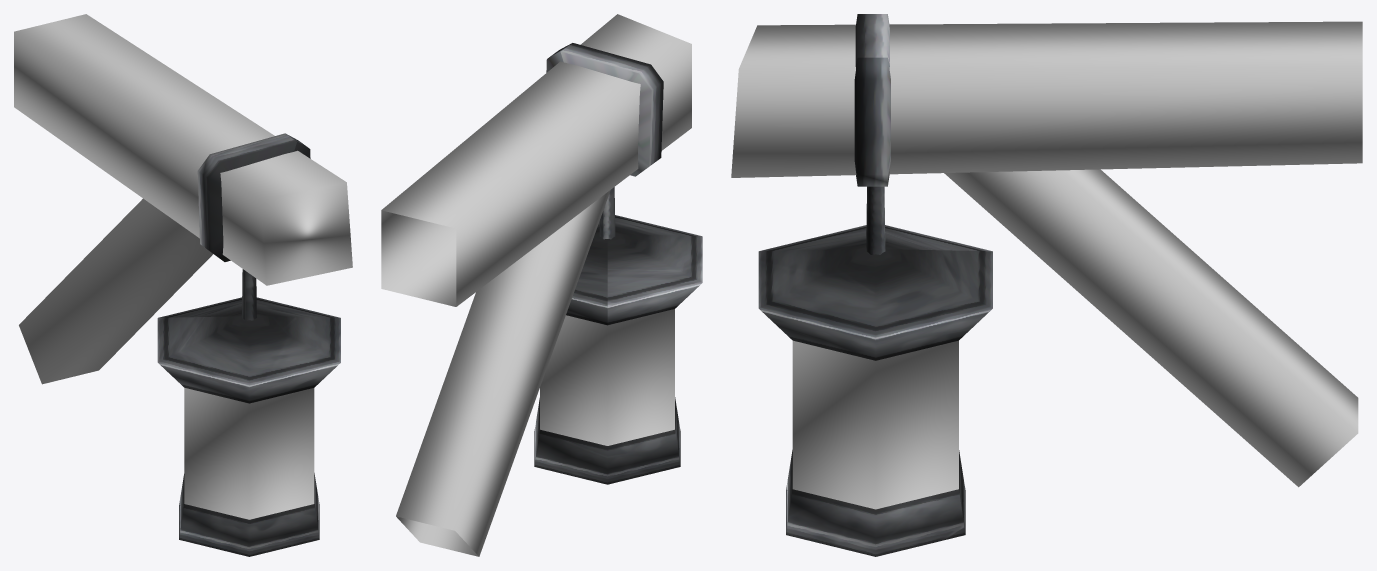
File: StreetLightSmall_1.fbx
The picture shows the model from 3 angles, left to right: view 1: azimuth 30°, elevation 25°; view 2: azimuth 150°, elevation 25°; view 3: azimuth 270°, elevation 25°; orthographic projection. The views are drawn at different scales.
Visible parts, largest first — view 1: Mesh; view 2: Mesh; view 3: Mesh.
Boxes of the visible parts, <box> form: Mesh: <box>14,14,352,556</box>; Mesh: <box>381,14,702,556</box>; Mesh: <box>731,14,1362,556</box>.
Size of the model in its own units: 47.83 by 94.22 by 112.
